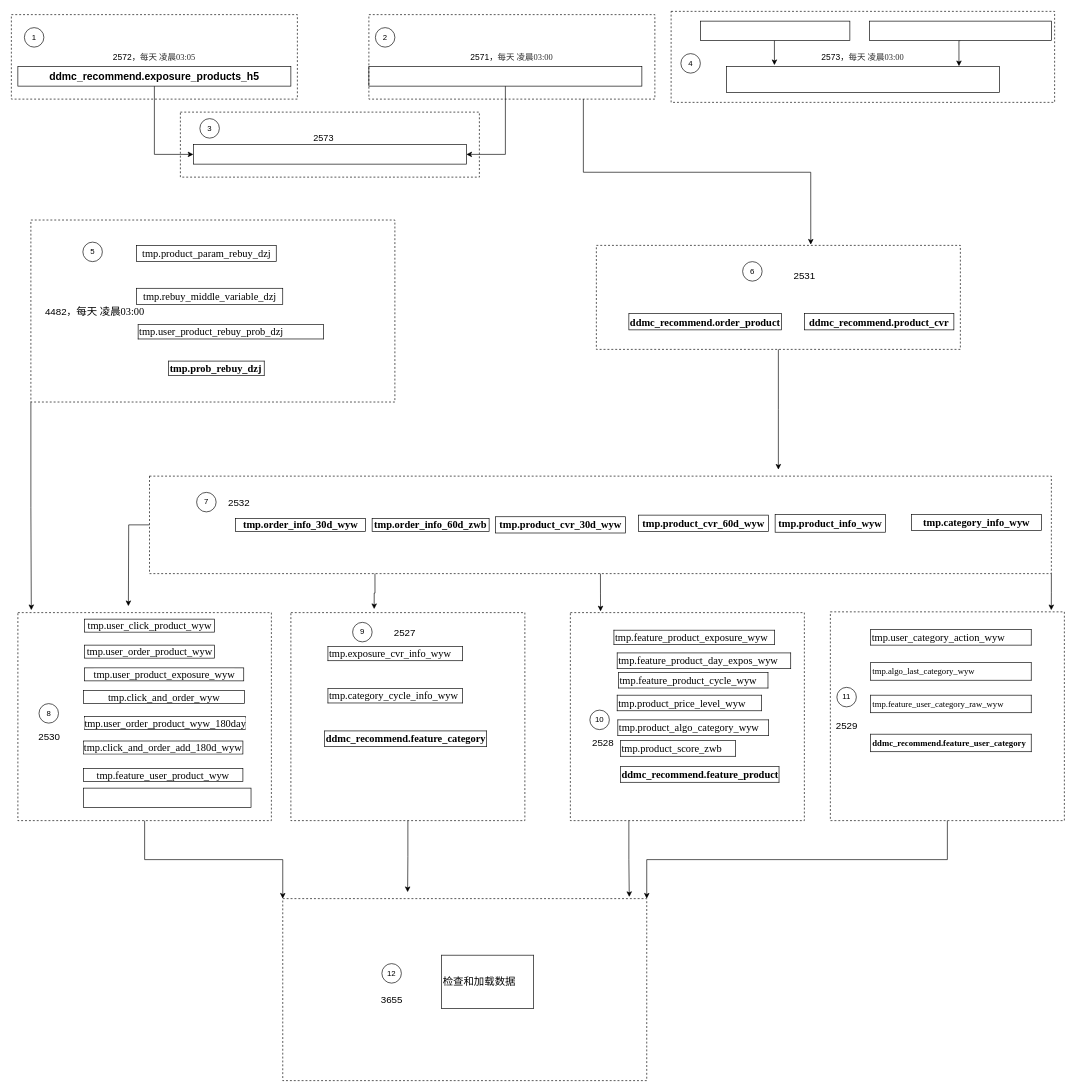
Image size: 1076x1092. Some labels were removed from this diagram. Each missing label, with the centre of its shape:
ddmc_recommend.exposure_products: point 505,76
ddmc_recommend.feature_user_product: point 167,797
ddmc_recommend.important_user: point 960,30
ddmc_recommend.user_value: point 862,79
dwd.trd_order: point 775,30
同步表数据 到impala: point 329,154
